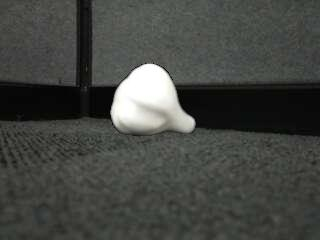Garlic: (110, 63, 195, 137)
